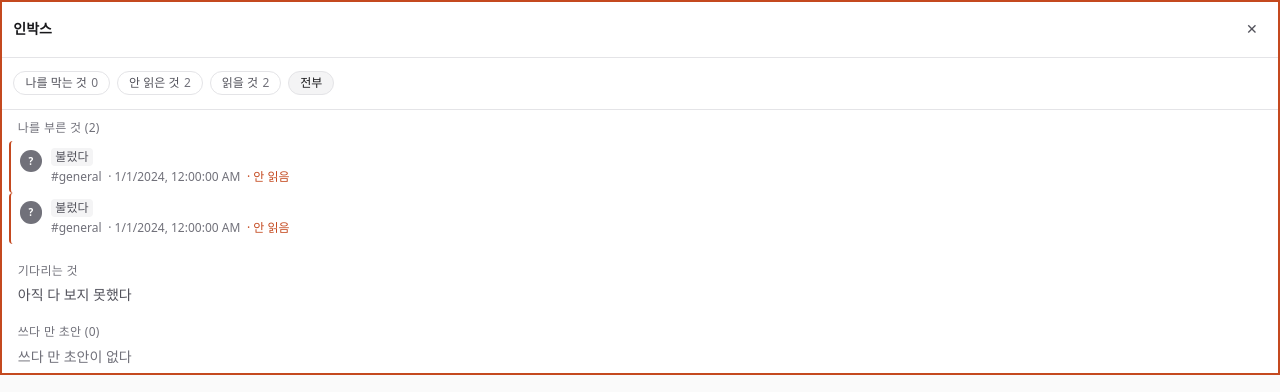
Test: Inbox 줄이 무엇을 말하는가 (#488 C2) › '안 읽은 것' 으로 좁혀 봐도 방금 누른 줄은 목록에 남는다
Expected: the button with test id "inbox-entry-1" is shown, [9,141,1271,193]
What coordinates should you click on to do the following:
click the button with test id "inbox-filter-unread"
I would click on:
 (160, 83)
Its box is [117,71,203,95].
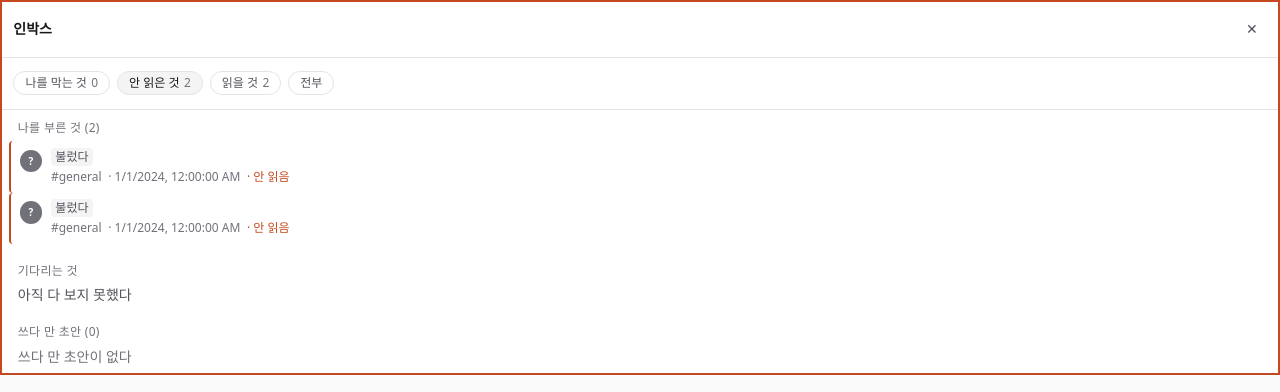
What coordinates should you click on to do the following:
click the button with test id "inbox-entry-1"
I would click on:
 (72, 157)
Its box is [9,141,1271,193].
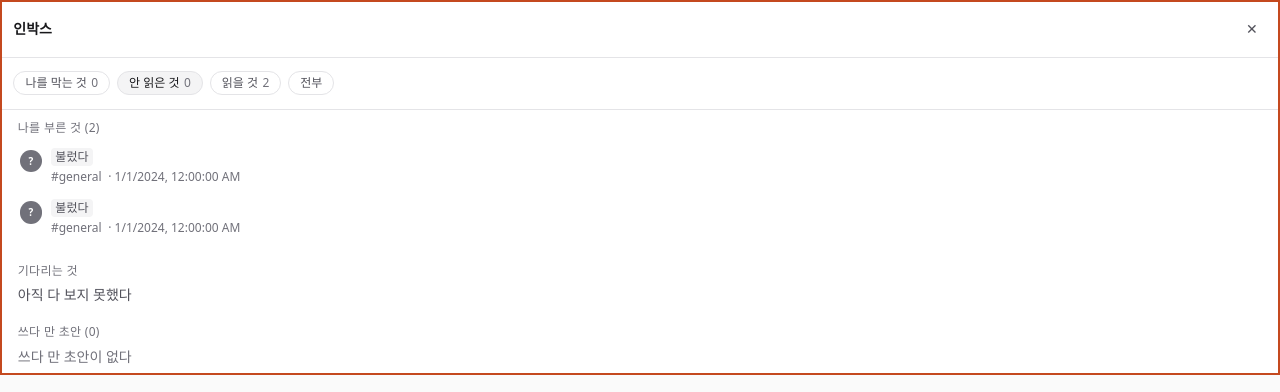
Expected: the button with test id "inbox-filter-unread" shows "0", [117,71,203,95]
